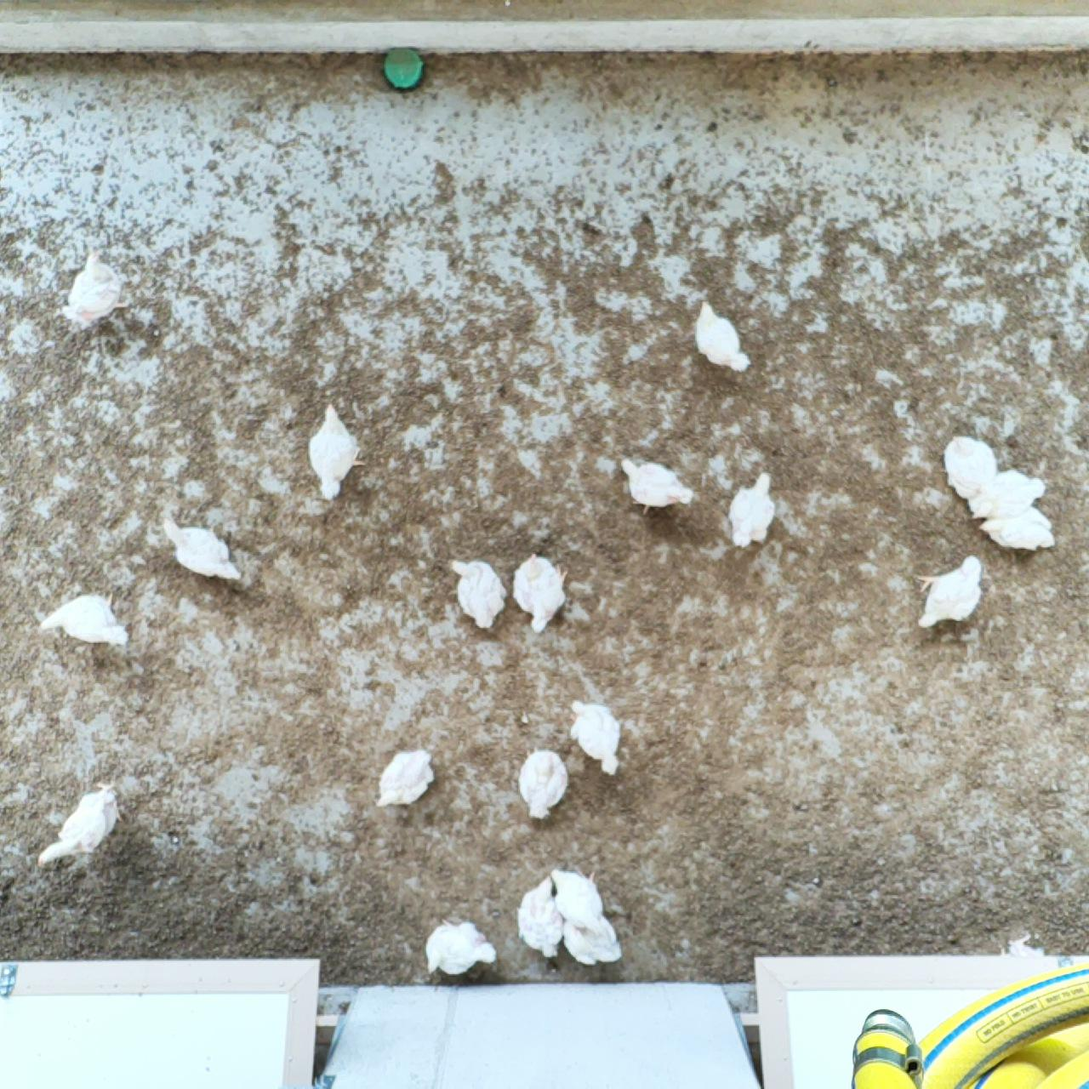chicken: (34, 779, 124, 870), (303, 399, 369, 502), (161, 513, 246, 587), (35, 590, 133, 650), (912, 553, 984, 634), (59, 247, 130, 327), (509, 548, 572, 636), (618, 452, 696, 519), (567, 692, 625, 778), (422, 916, 499, 979), (694, 298, 756, 376), (448, 554, 509, 633), (516, 871, 568, 961), (727, 468, 782, 551), (967, 467, 1048, 521), (515, 741, 569, 821), (373, 747, 438, 813), (548, 864, 607, 933), (939, 433, 998, 502), (979, 506, 1059, 554), (562, 914, 627, 970)
